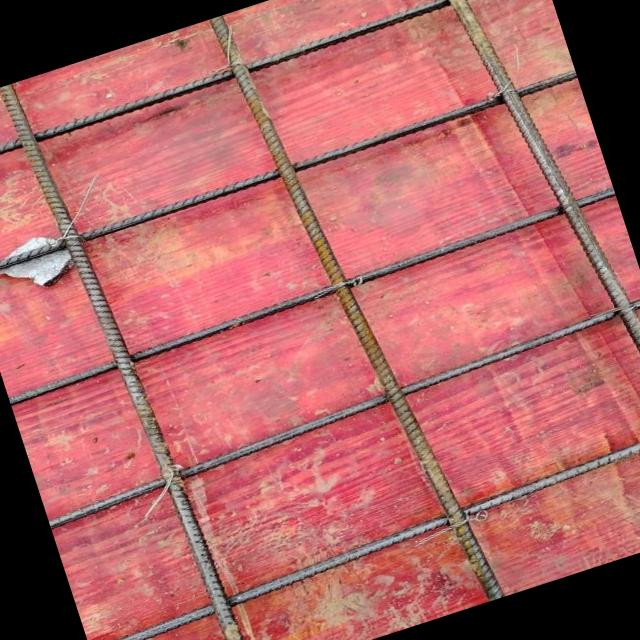ribbed bar: (206, 0, 503, 628), (0, 68, 258, 640), (39, 295, 640, 531), (5, 188, 619, 406), (0, 68, 579, 282), (81, 426, 640, 640), (419, 0, 640, 508), (0, 0, 544, 177)
